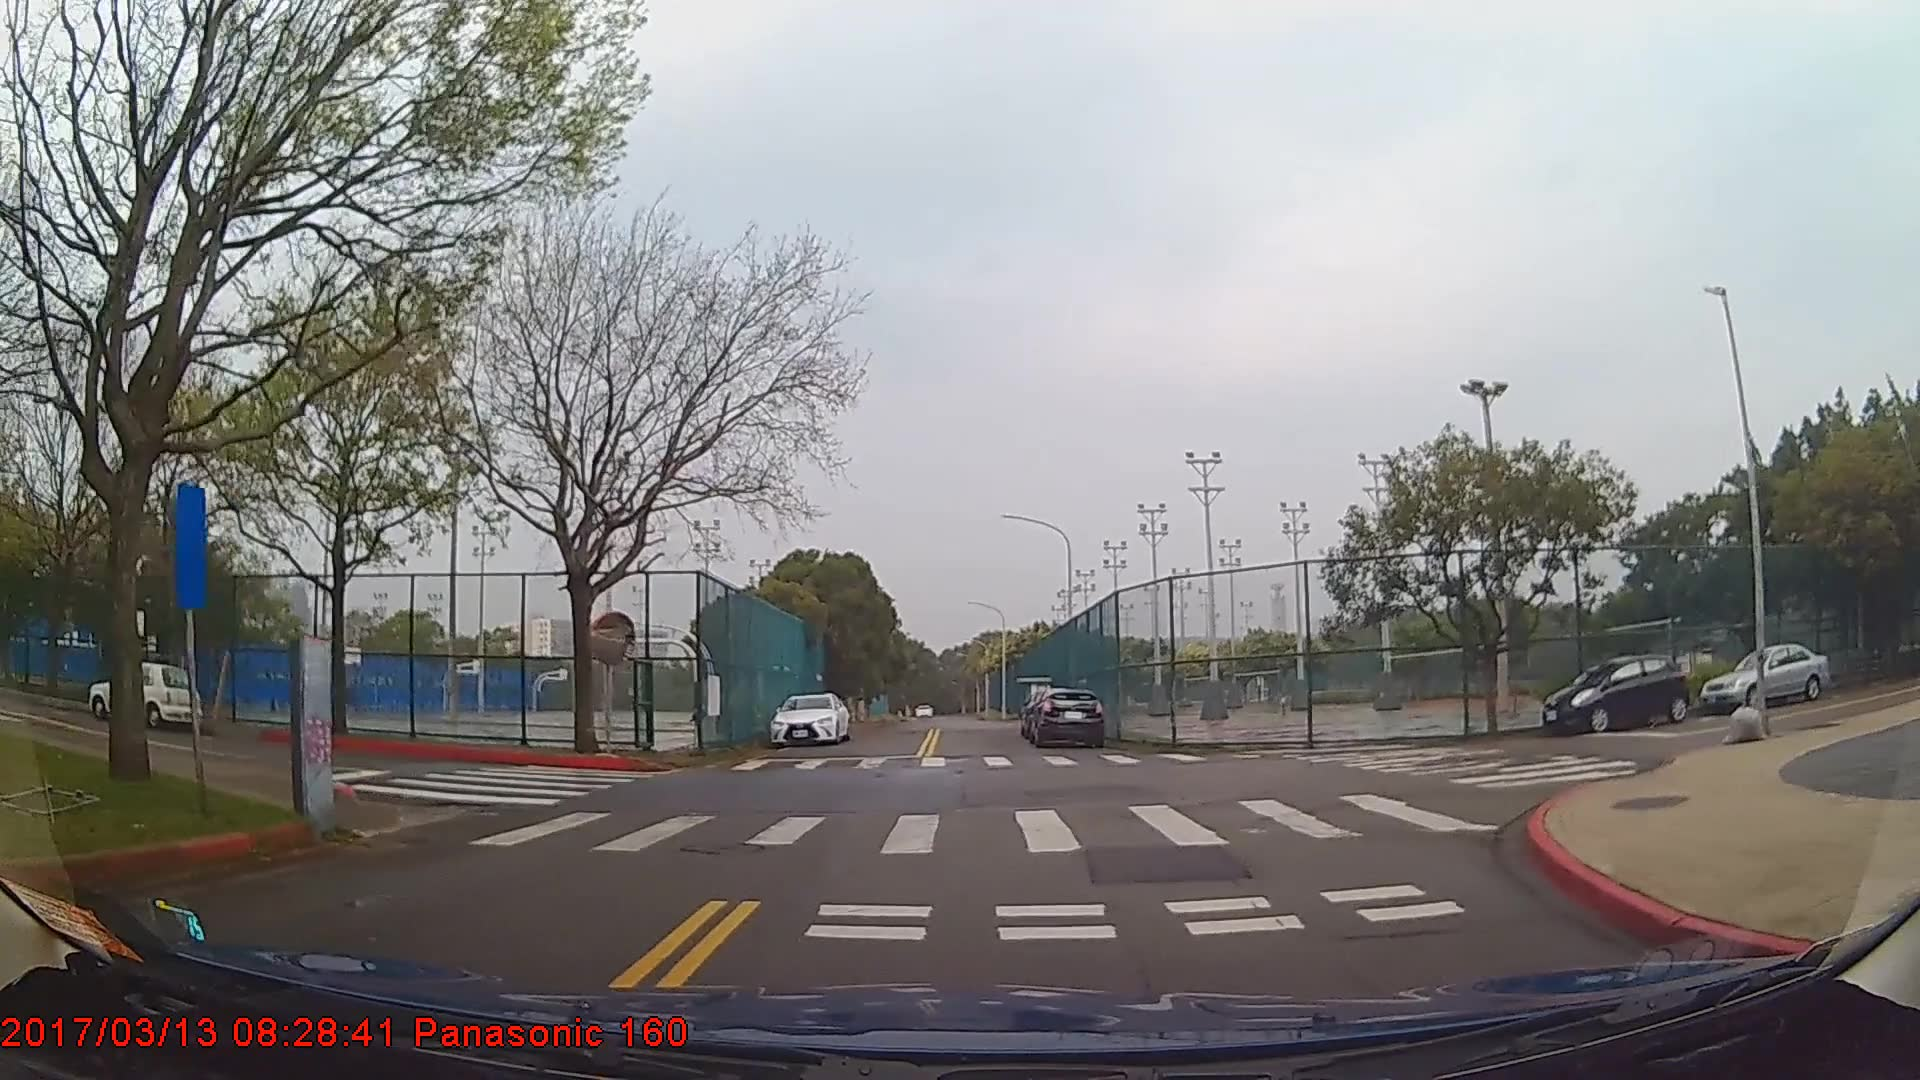vehicle: (1542, 651, 1689, 735), (1698, 642, 1832, 709), (88, 659, 200, 727), (1026, 688, 1104, 749), (770, 690, 851, 746)
